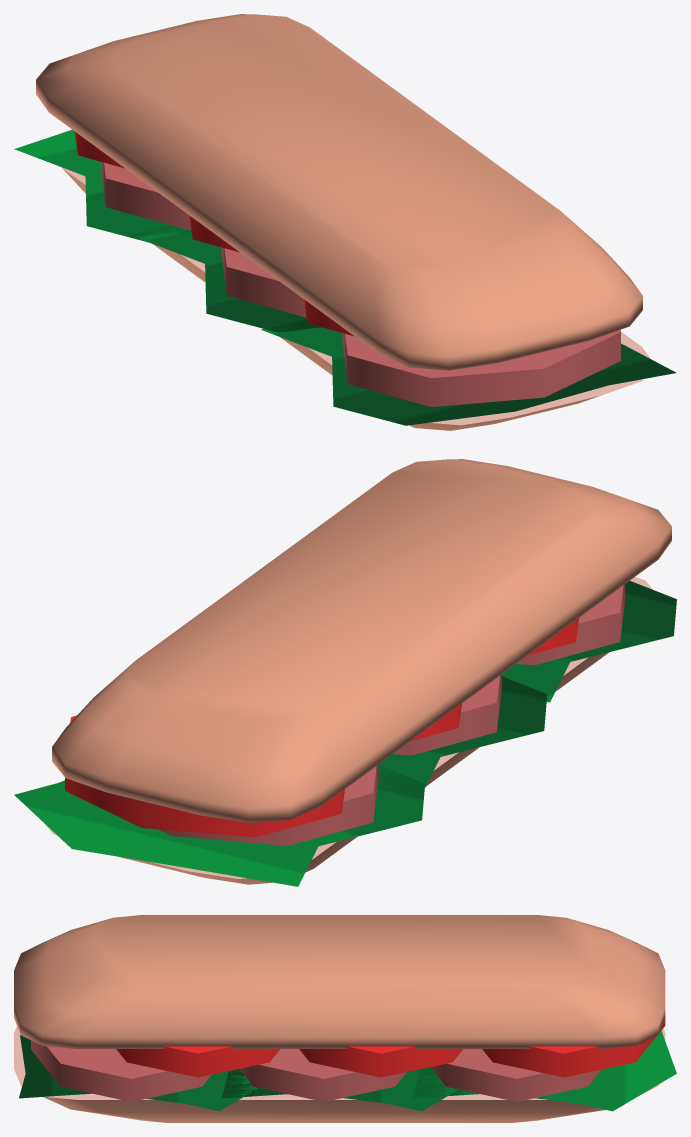
Rendered from Food_Sandwich.fbx.
The picture shows the model from 3 angles, top to bottom: view 1: azimuth 30°, elevation 25°; view 2: azimuth 150°, elevation 25°; view 3: azimuth 270°, elevation 25°; orthographic projection. The views are drawn at different scales.
Visible parts, largest first — view 1: Food_Sandwich; view 2: Food_Sandwich; view 3: Food_Sandwich.
Boxes of the visible parts, x1,y1,x2,y2 form: Food_Sandwich: (14,14,676,430); Food_Sandwich: (14,459,676,886); Food_Sandwich: (14,915,676,1122).
Size of the model in its own units: 11.91 by 5.83 by 26.33.
